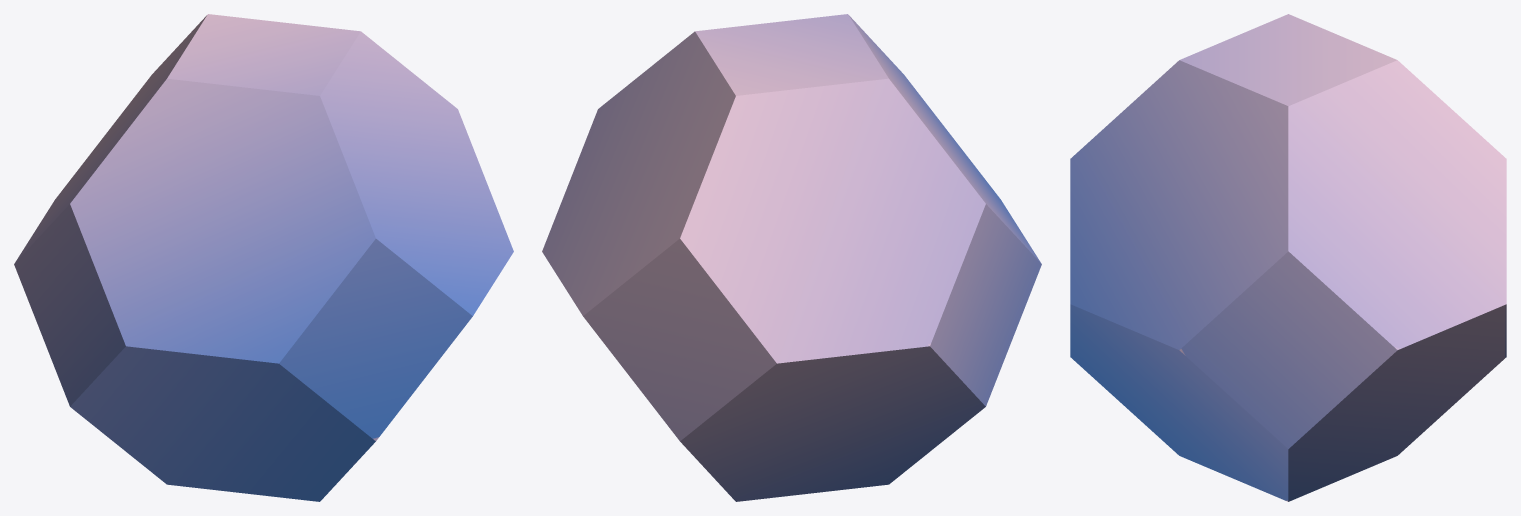
Rendered from Truncated Octahedron.glb.
3 views of the same model, side by side, from view 1: azimuth 30°, elevation 25°; view 2: azimuth 150°, elevation 25°; view 3: azimuth 270°, elevation 25° (orthographic). The views are drawn at different scales.
Parts seen in each view (by area): view 1: Truncated Octahedron; view 2: Truncated Octahedron; view 3: Truncated Octahedron.
Part boxes in pixels (box(x1,y1,x2,y2)): Truncated Octahedron: box(14, 14, 513, 501); Truncated Octahedron: box(542, 14, 1041, 501); Truncated Octahedron: box(1070, 14, 1506, 501).
Bounding box in the file's own units: 1.53 × 1.53 × 1.53.
1 material, 1 textured.
